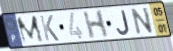4: (68, 11, 84, 41)
H: (81, 9, 109, 41)
J: (116, 9, 131, 36)
K: (39, 14, 61, 42)
M: (15, 14, 45, 45)
N: (130, 6, 155, 36)
